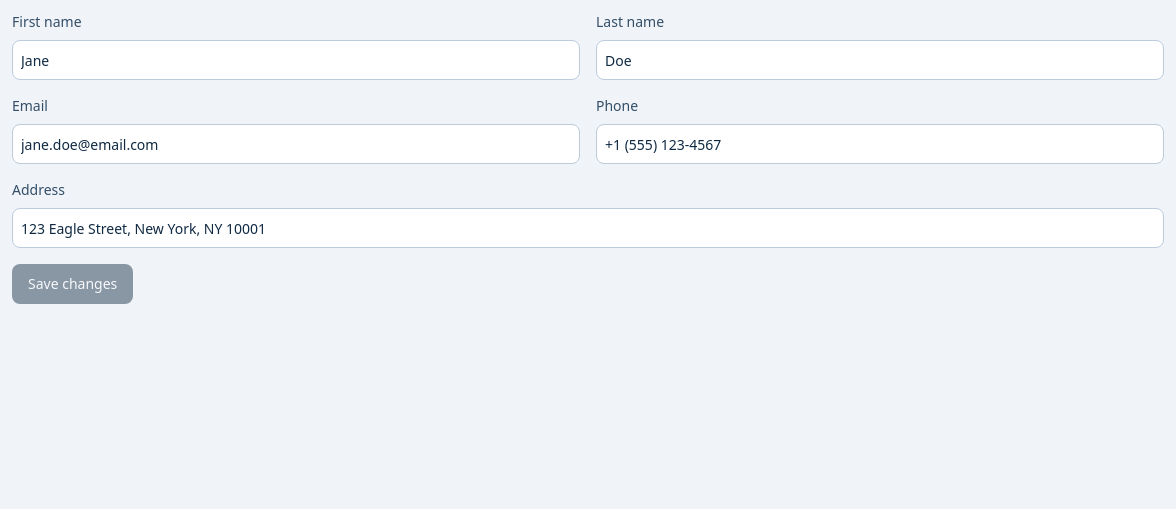
Test: ProfileForm › shows a server error when the update fails
Step 1. Replace the text in the field labelled "First name" with "Janet" → x=296, y=60, box x1=12 y1=40 x2=580 y2=80
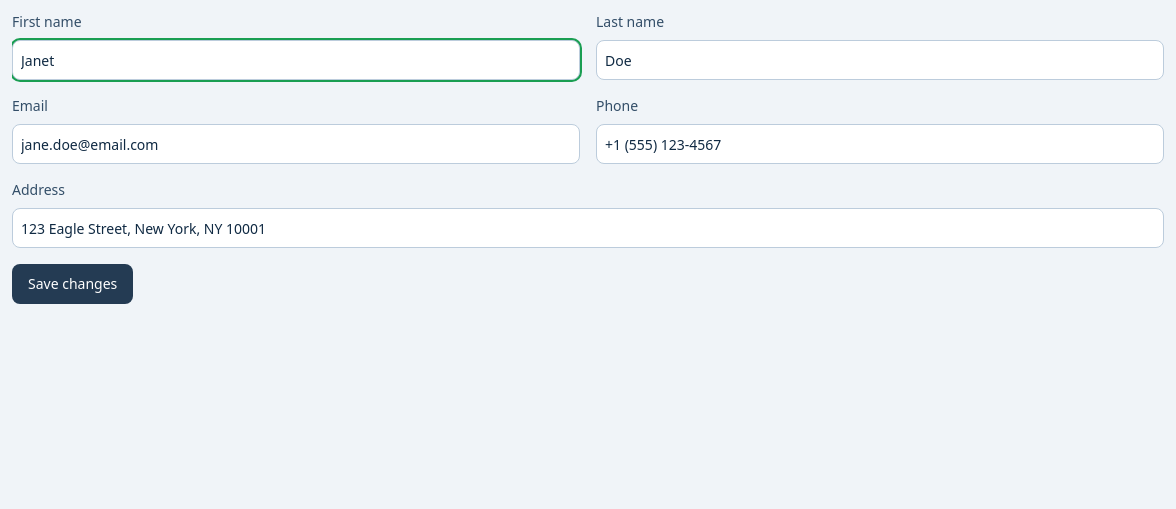
Step 2. Click the button "Save changes" → x=73, y=284, box x1=12 y1=264 x2=133 y2=304
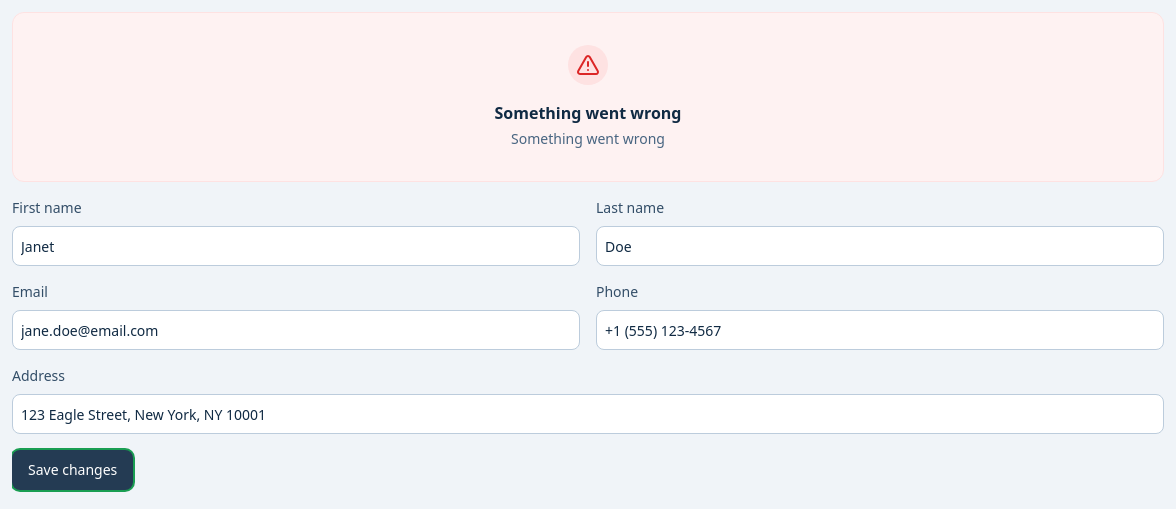
Expected: the message shows "Something went wrong", x1=494 y1=102 x2=682 y2=124
